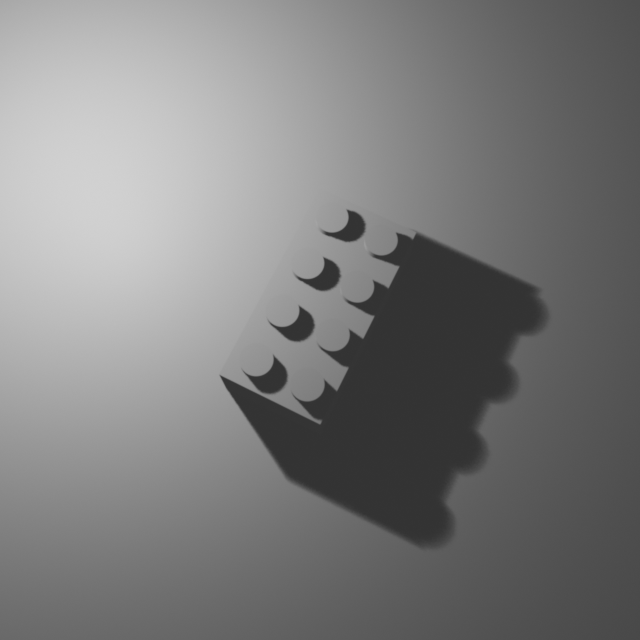lego_2x4: (218, 184, 418, 435)
